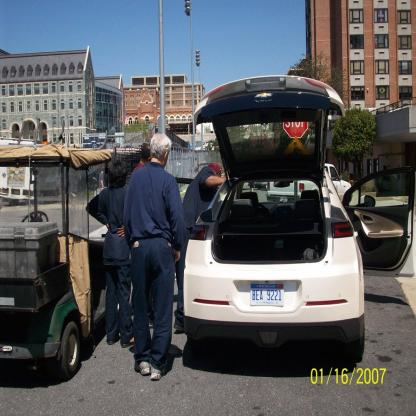Car: (186, 91, 380, 372)
